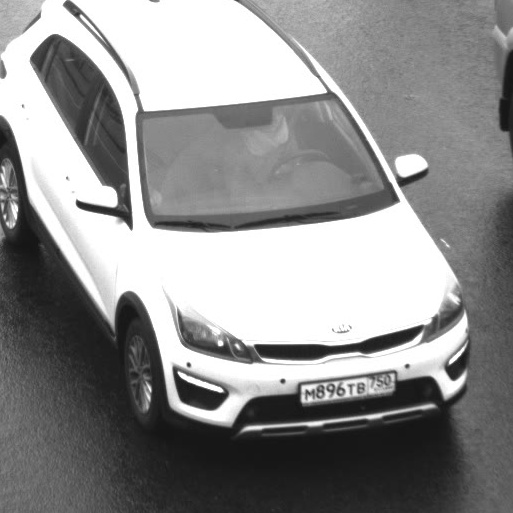plate: (287, 358, 403, 413)
